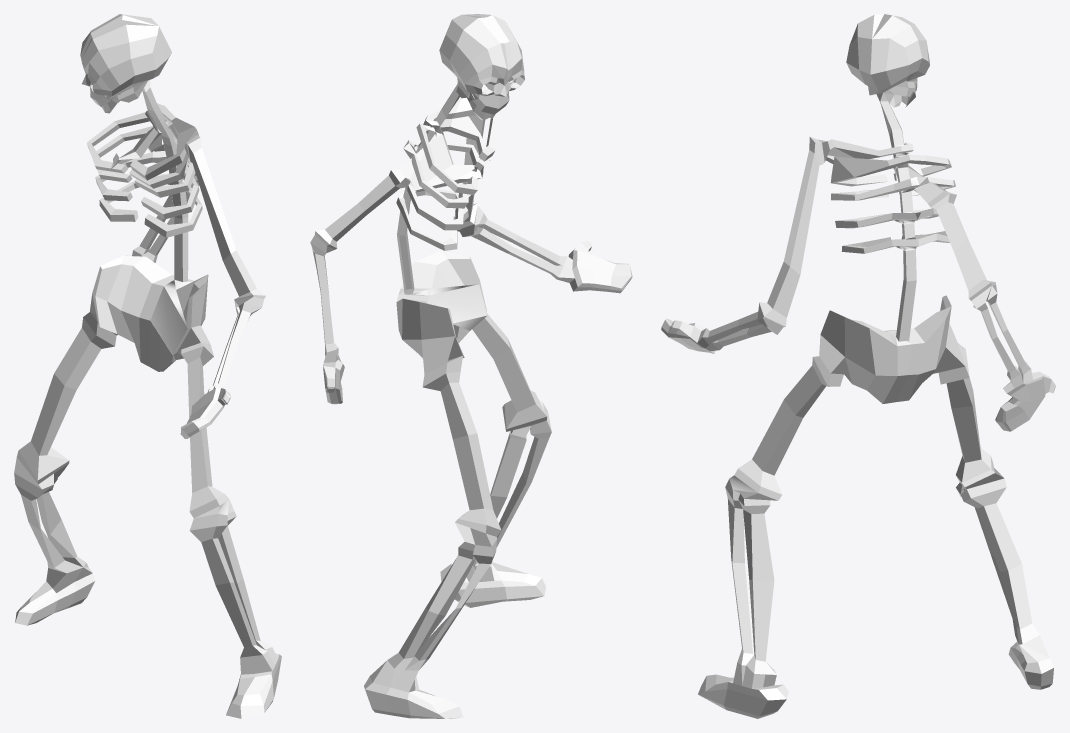
Rendered from SkeletonIdle(85).obj.
3 views of the same model, side by side, from view 1: azimuth 30°, elevation 25°; view 2: azimuth 150°, elevation 25°; view 3: azimuth 270°, elevation 25° (orthographic). The views are drawn at different scales.
Parts seen in each view (by area): view 1: Object002; view 2: Object002; view 3: Object002.
Boxes of the visible parts, x1=… form: Object002: x1=14, y1=14, x2=281, y2=718; Object002: x1=310, y1=14, x2=632, y2=718; Object002: x1=661, y1=14, x2=1055, y2=718.
Size of the model in its own units: 344 by 1135 by 614.
